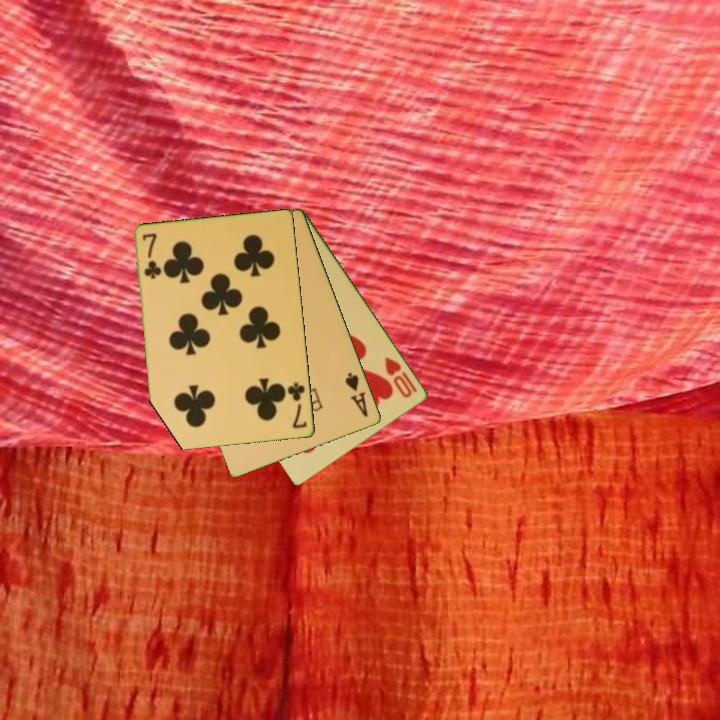10h: (381, 353, 416, 401)
7c: (284, 379, 310, 432), (139, 230, 163, 282)
As: (342, 369, 371, 420)
